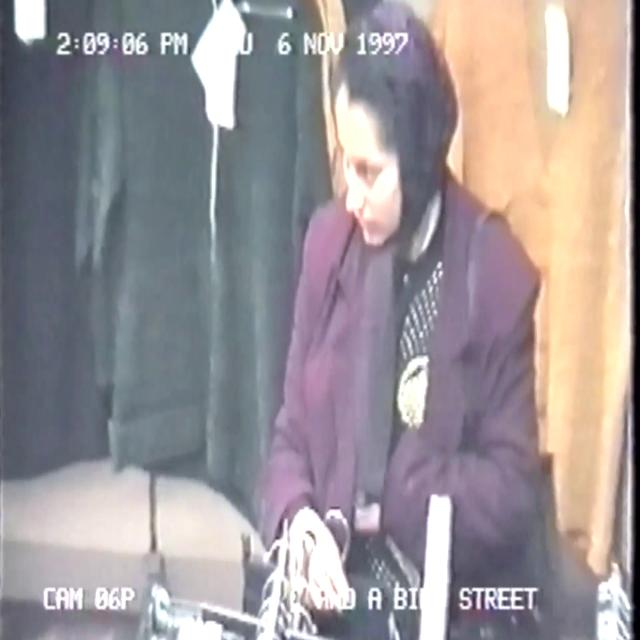Product: (309, 552, 407, 640)
shoplifting: (209, 0, 533, 640)
